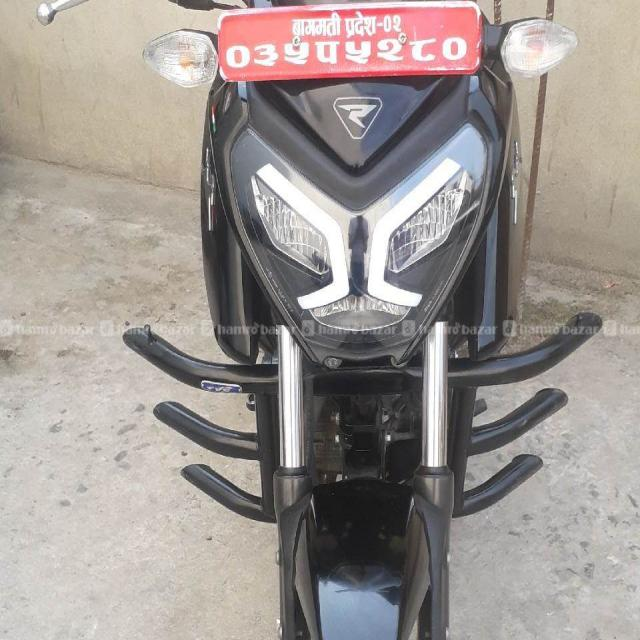License-plate: (207, 3, 485, 82)
